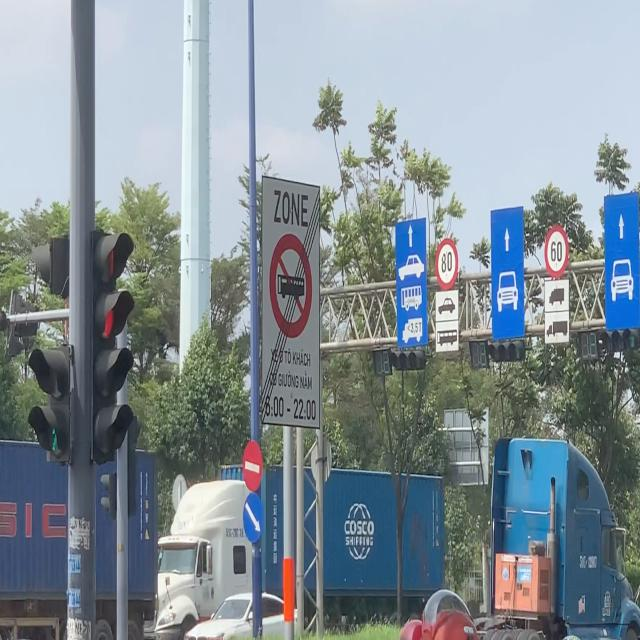Cam con lai: (269, 231, 314, 339)
Cam nguoc chieu: (242, 439, 263, 492)
Hieu lenh: (241, 491, 265, 546)
Toc do toi da: (435, 239, 460, 287), (546, 224, 566, 275)
